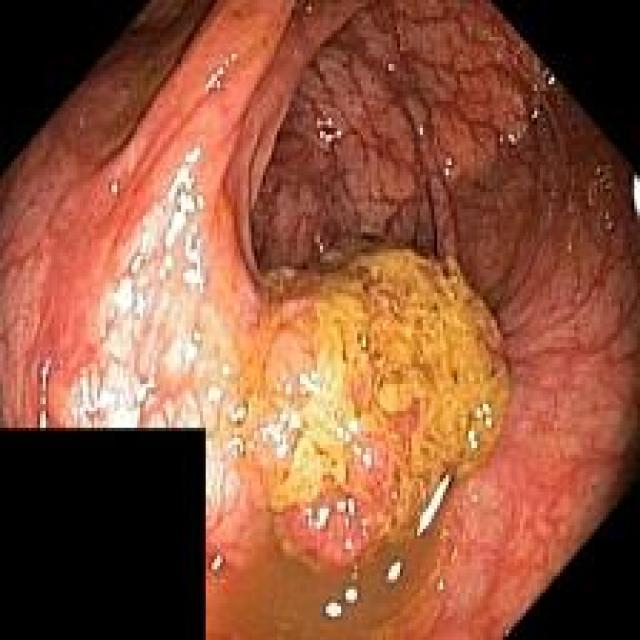Polyps: (241, 246, 509, 571)
